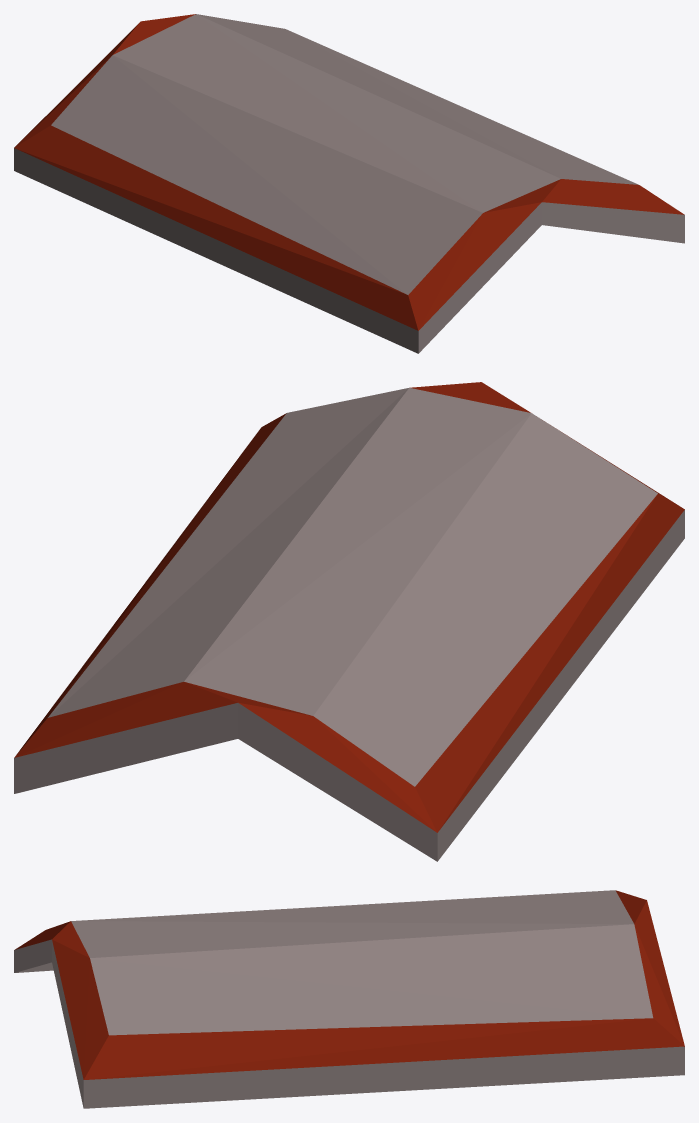
Rendered from inv_steel_sq_shield.obj.
3 views of the same model, one above another, from view 1: azimuth 30°, elevation 25°; view 2: azimuth 150°, elevation 25°; view 3: azimuth 270°, elevation 25° (orthographic). The views are drawn at different scales.
Size of the model in its own units: 0.5781 by 0.1562 by 0.8281.
